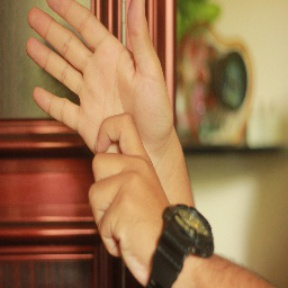R: (19, 1, 175, 229)
